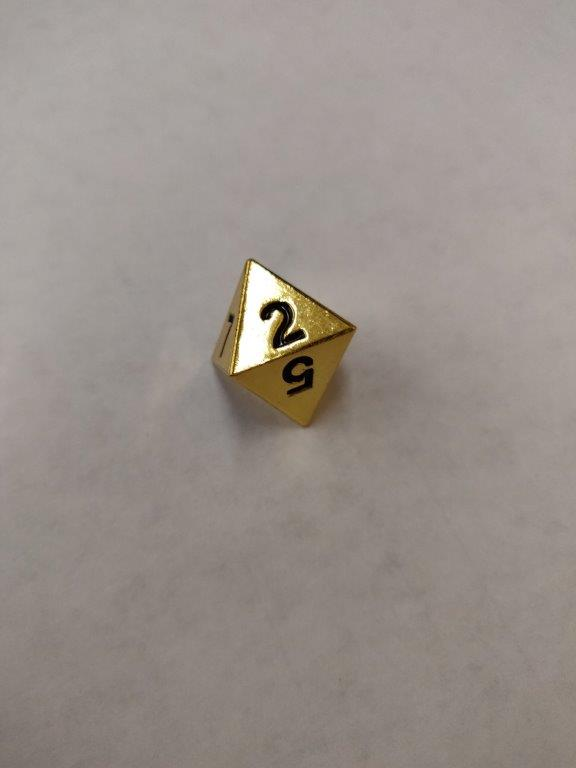d8-2: (210, 257, 359, 431)
